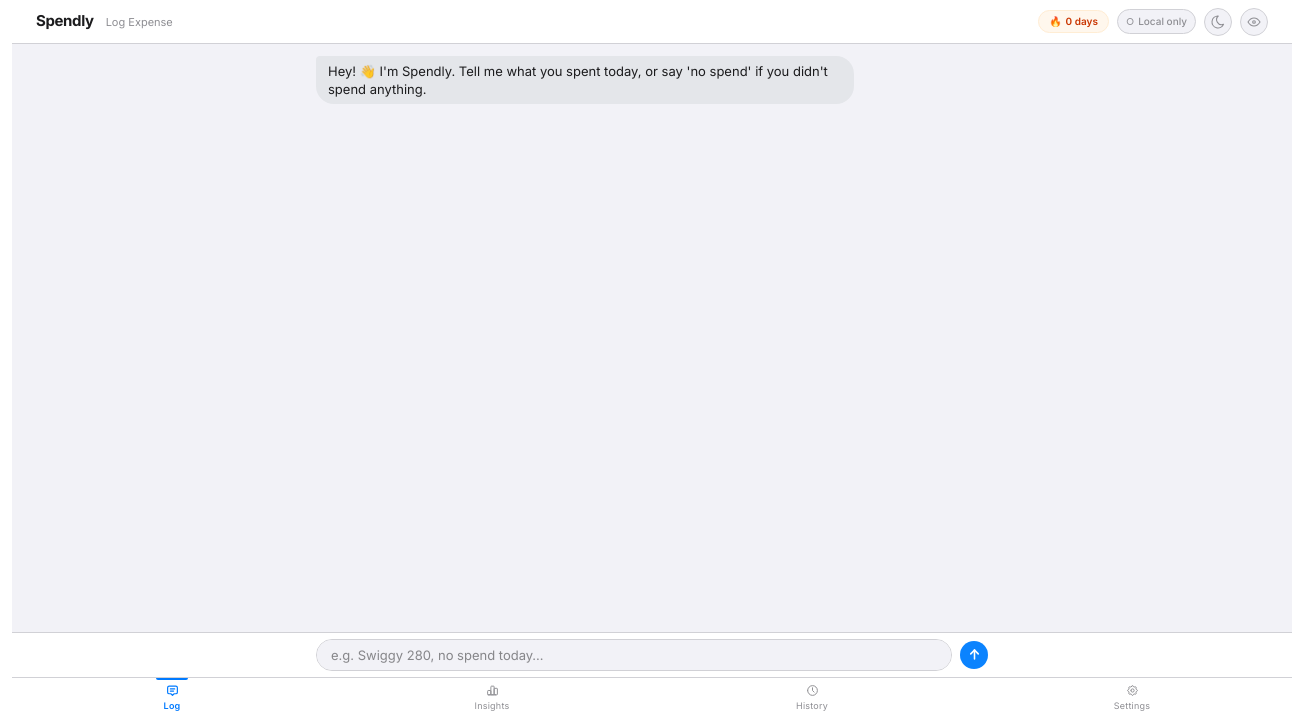
Test: Expense Tracker - Web Push Notifications & Reminders › should gracefully handle browser notification permission denial
The width and height of the screenshot is (1304, 720).
Step 1. Click the button "Settings" → (1132, 700), box left=972, top=678, right=1292, bottom=719
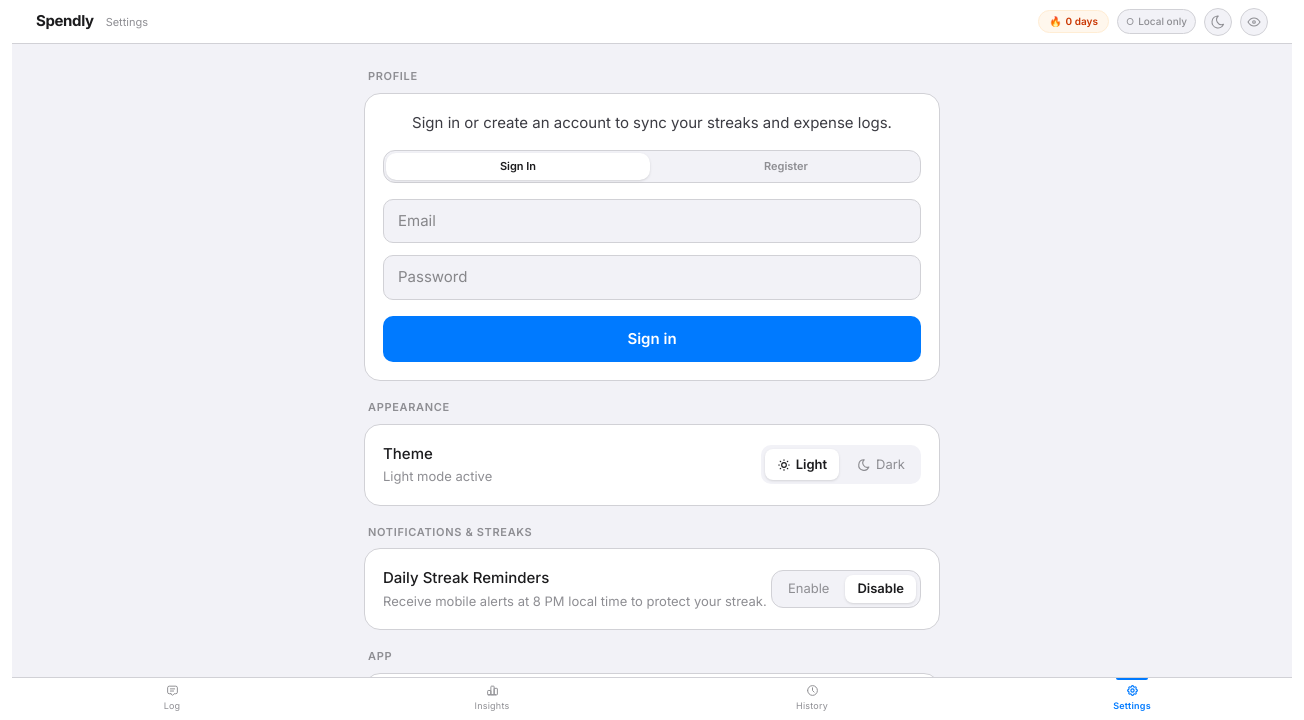
Step 2. Click the button "Enable" → (809, 589), box left=776, top=575, right=842, bottom=603
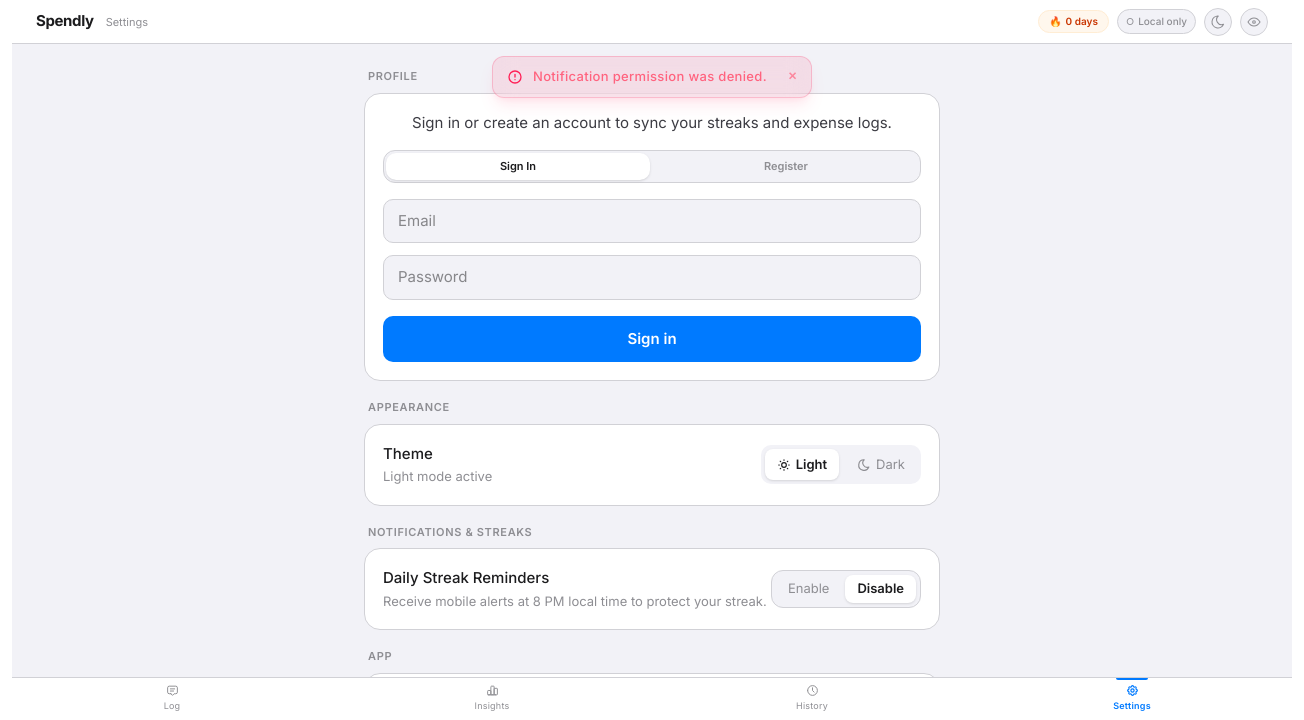
Expected: the button "Enable" is shown, left=776, top=575, right=841, bottom=603
Expected: the text "Notification permission was denied." is shown, left=533, top=67, right=768, bottom=86
